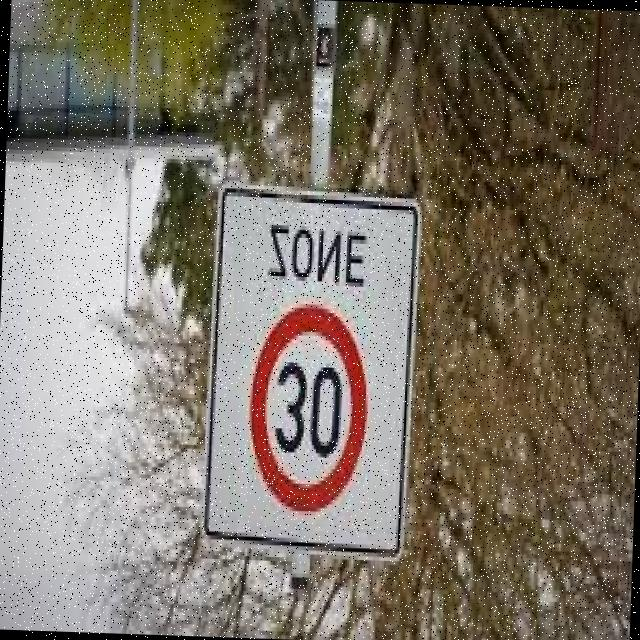speed_limit_30: (238, 299, 379, 524)
